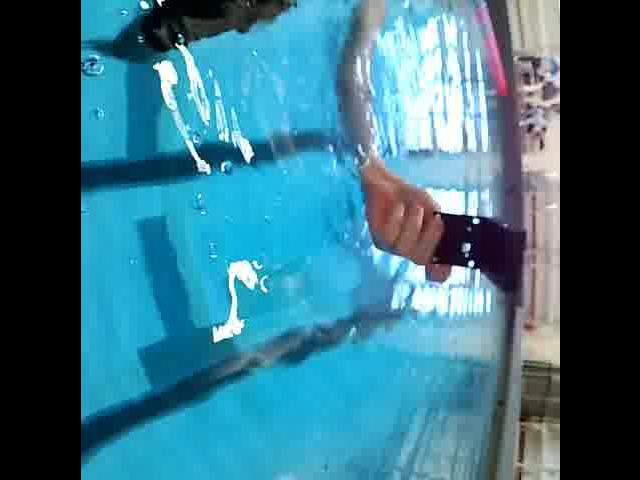CamMount: (428, 211, 532, 300)
